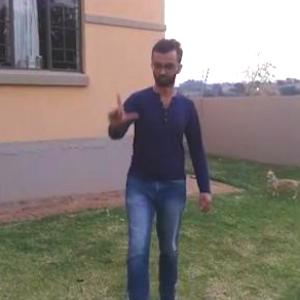land_hand: (102, 90, 140, 128)
